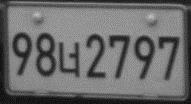2: (84, 32, 107, 79)
7: (157, 35, 180, 82), (108, 33, 130, 80)
8: (34, 32, 56, 77)
9: (132, 35, 155, 80), (11, 31, 33, 77)
너: (57, 40, 81, 78)
